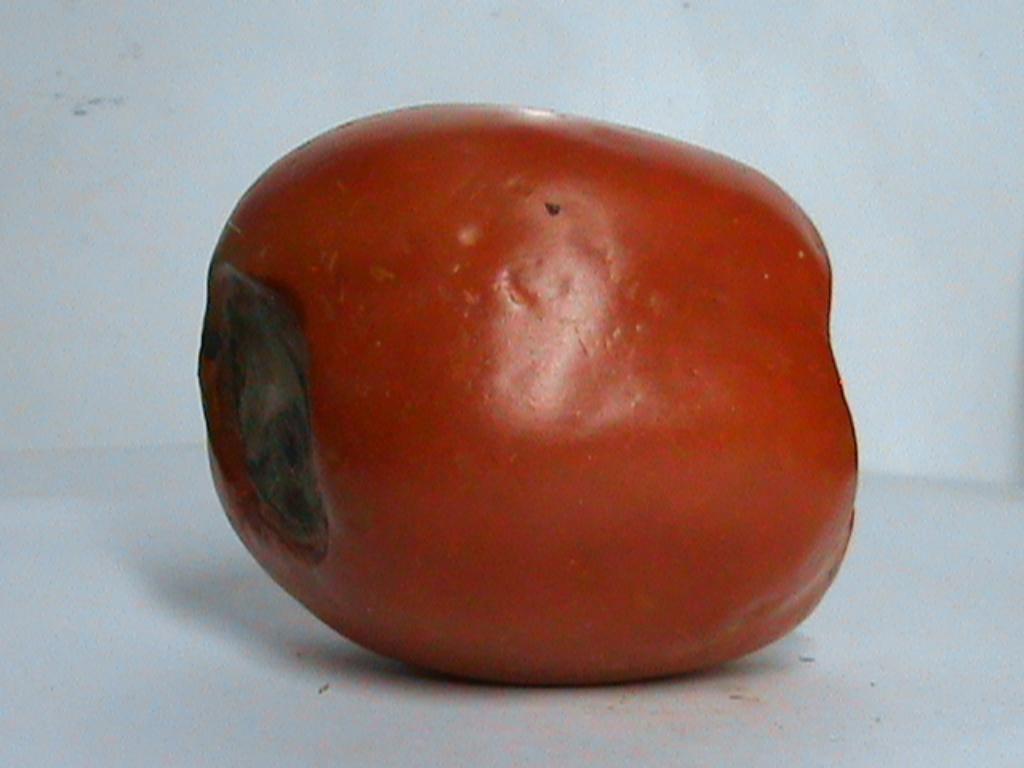rot_mold_decay: (206, 270, 325, 554)
tomato: (198, 107, 856, 682)
